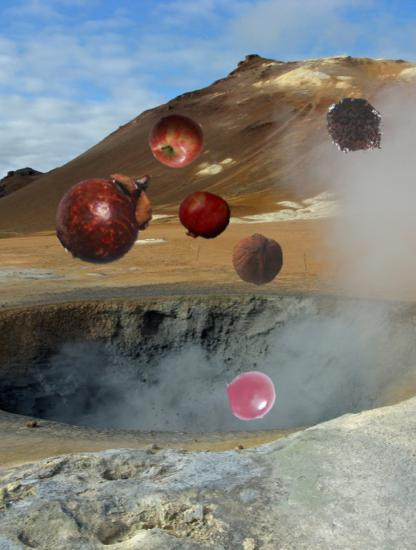Apple: (149, 112, 206, 169)
Mangostan: (54, 159, 166, 271)
Pomegranate: (178, 190, 231, 243)
Rambutan: (321, 93, 391, 163)
Redcurrant: (227, 371, 278, 422)
Walnut: (231, 233, 284, 286)
